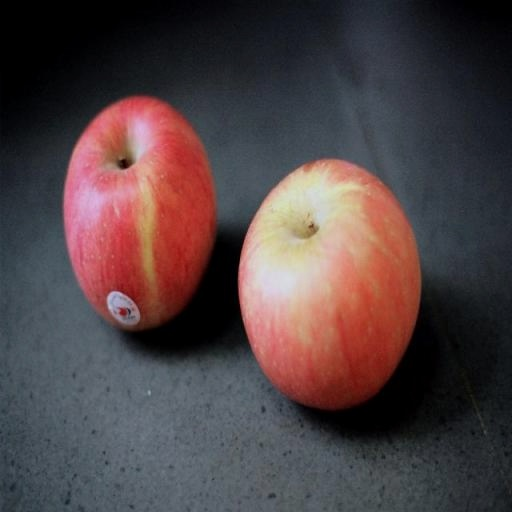fruit: (238, 160, 419, 409), (64, 97, 215, 330)
